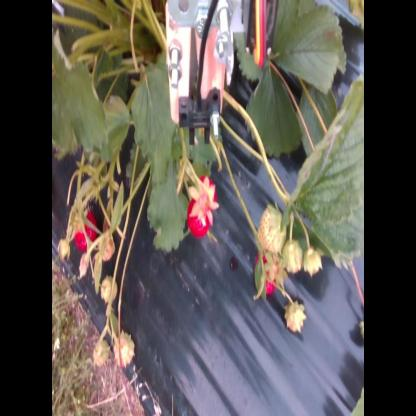ripe: (72, 205, 99, 254), (186, 197, 212, 241), (254, 252, 277, 297), (199, 174, 220, 212)
unripe: (255, 202, 287, 255), (280, 239, 303, 277), (284, 298, 306, 334), (113, 332, 135, 368), (303, 248, 324, 278), (98, 231, 116, 262), (101, 274, 118, 304), (93, 337, 109, 368)
